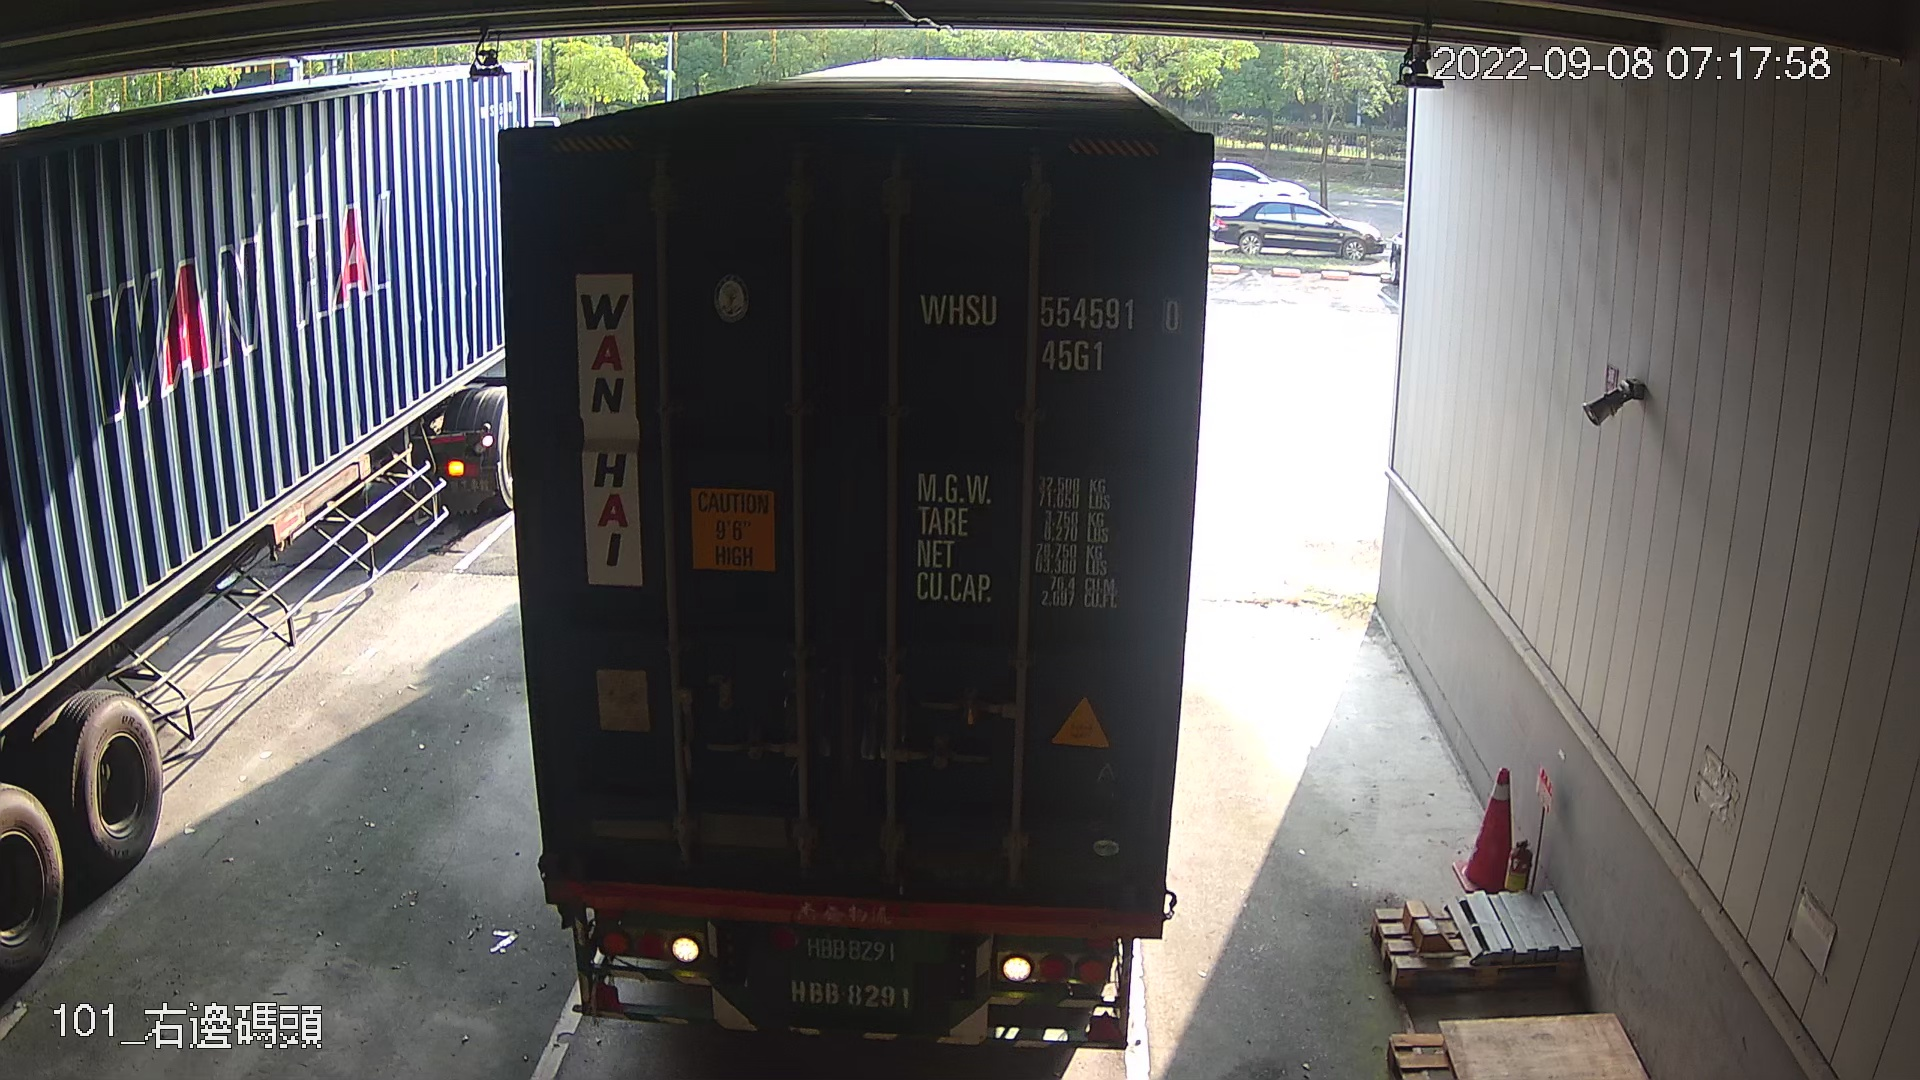container: (913, 280, 1185, 382)
